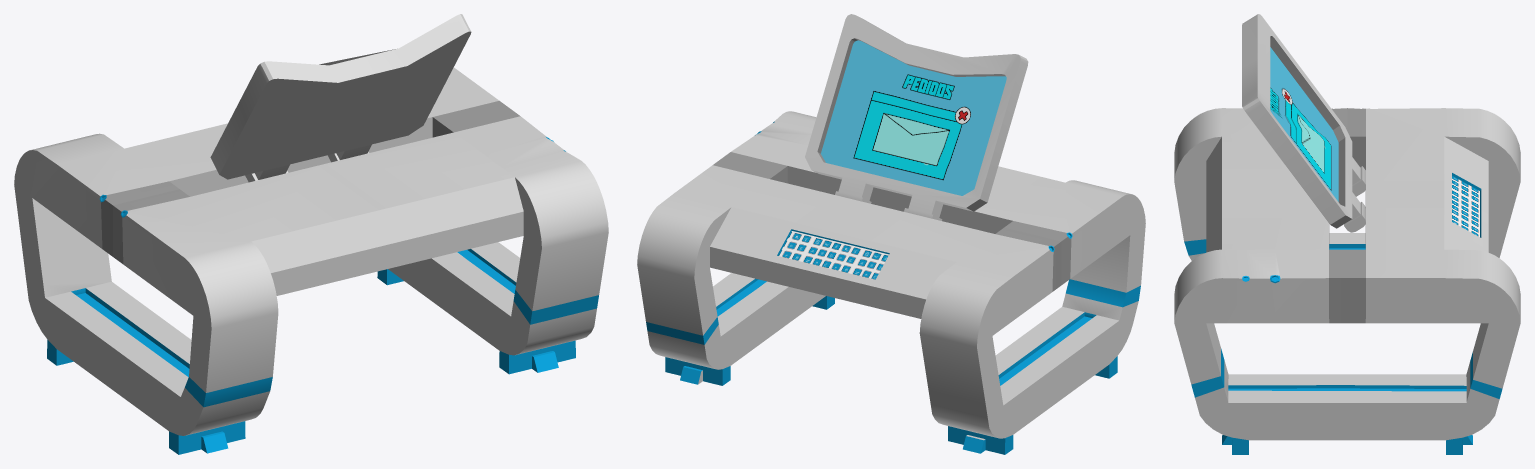
Rendered from DeliveryCounter.fbx.
3 renders of one model, left to right at view 1: azimuth 30°, elevation 25°; view 2: azimuth 150°, elevation 25°; view 3: azimuth 270°, elevation 25°, orthographic. The views are drawn at different scales.
Parts seen in each view (by area): view 1: Table; view 2: Table; view 3: Table.
Boxes of the visible parts, x1=… form: Table: x1=14, y1=14, x2=608, y2=454; Table: x1=637, y1=14, x2=1145, y2=454; Table: x1=1174, y1=14, x2=1520, y2=454.
Bounding box in the file's own units: 140 × 120 × 120.
Materials: 5 (2 with a texture image).
